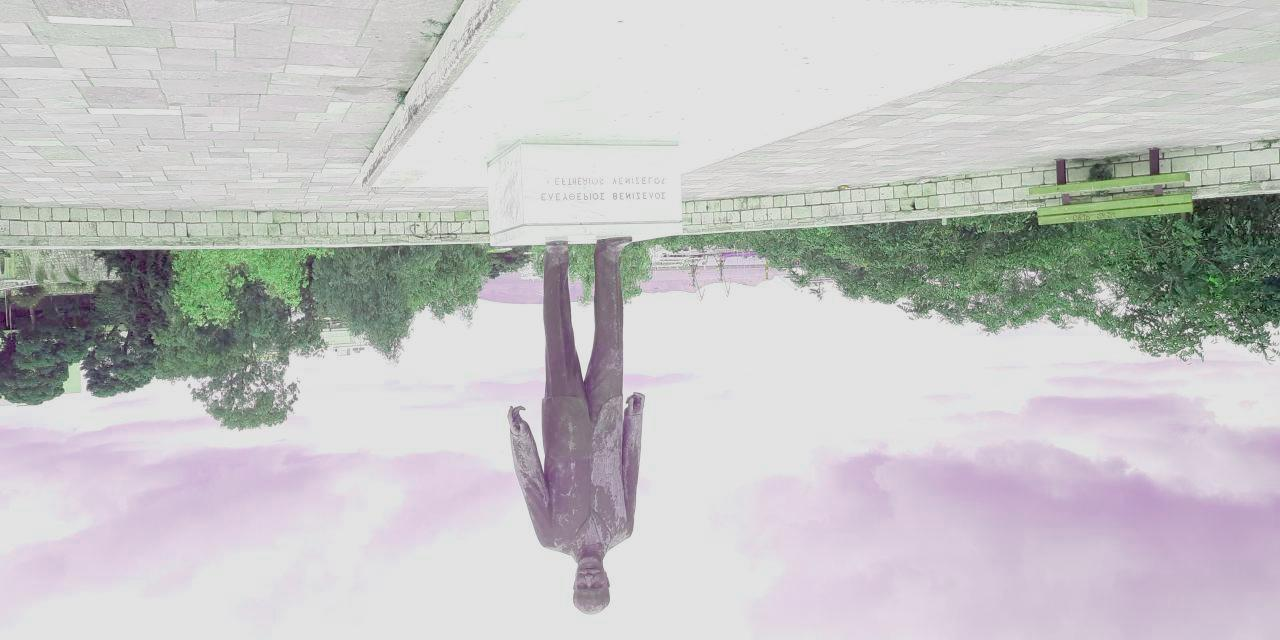Venizelos: (511, 234, 648, 615)
